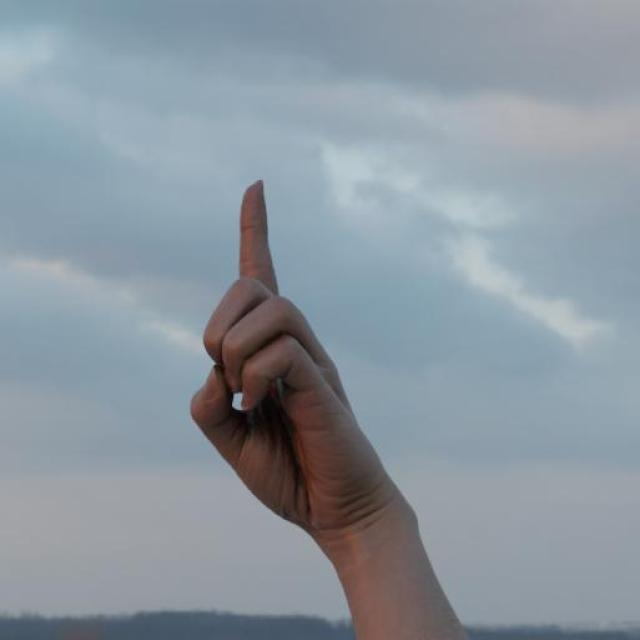X: (188, 177, 410, 536)
